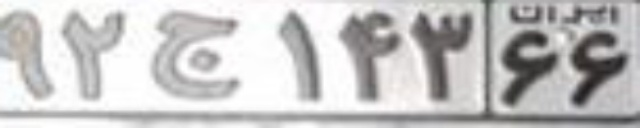1: (278, 11, 321, 100)
2: (63, 11, 129, 100)
3: (410, 11, 475, 101)
4: (337, 11, 403, 100)
6: (565, 28, 627, 106), (497, 29, 557, 106)
9: (1, 10, 57, 99)
jim: (149, 10, 244, 99)
